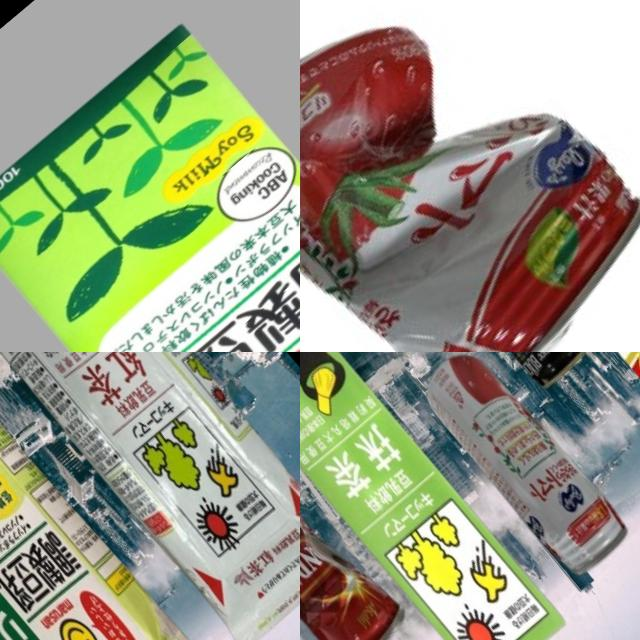Aluminium Foil: (0, 9, 300, 352), (0, 352, 300, 640), (300, 352, 575, 640), (0, 352, 236, 640), (460, 352, 640, 475)
Can: (300, 0, 640, 352), (406, 352, 639, 588), (300, 402, 409, 640), (412, 352, 593, 394)
